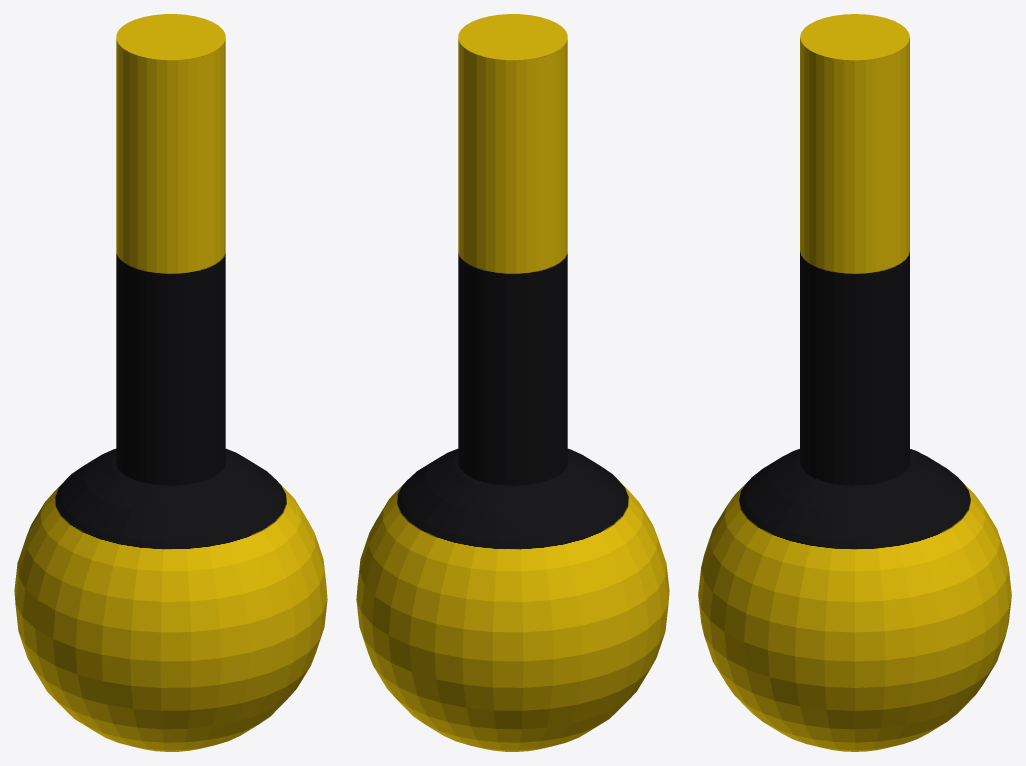
File: buoy_west.fbx
3 renders of one model, left to right at view 1: azimuth 30°, elevation 25°; view 2: azimuth 150°, elevation 25°; view 3: azimuth 270°, elevation 25°, orthographic.
Visible parts, largest first — view 1: Sphere.005, Cylinder.023; view 2: Sphere.005, Cylinder.023; view 3: Sphere.005, Cylinder.023.
Part boxes in pixels (x1=…): Sphere.005: x1=14, y1=448, x2=327, y2=751; Cylinder.023: x1=116, y1=14, x2=225, y2=485; Sphere.005: x1=356, y1=448, x2=669, y2=751; Cylinder.023: x1=458, y1=14, x2=567, y2=485; Sphere.005: x1=698, y1=449, x2=1011, y2=751; Cylinder.023: x1=800, y1=14, x2=909, y2=485.
Bounding box in the file's own units: 40 × 98.5 × 40.
Materials: 2 (2 with a texture image).
